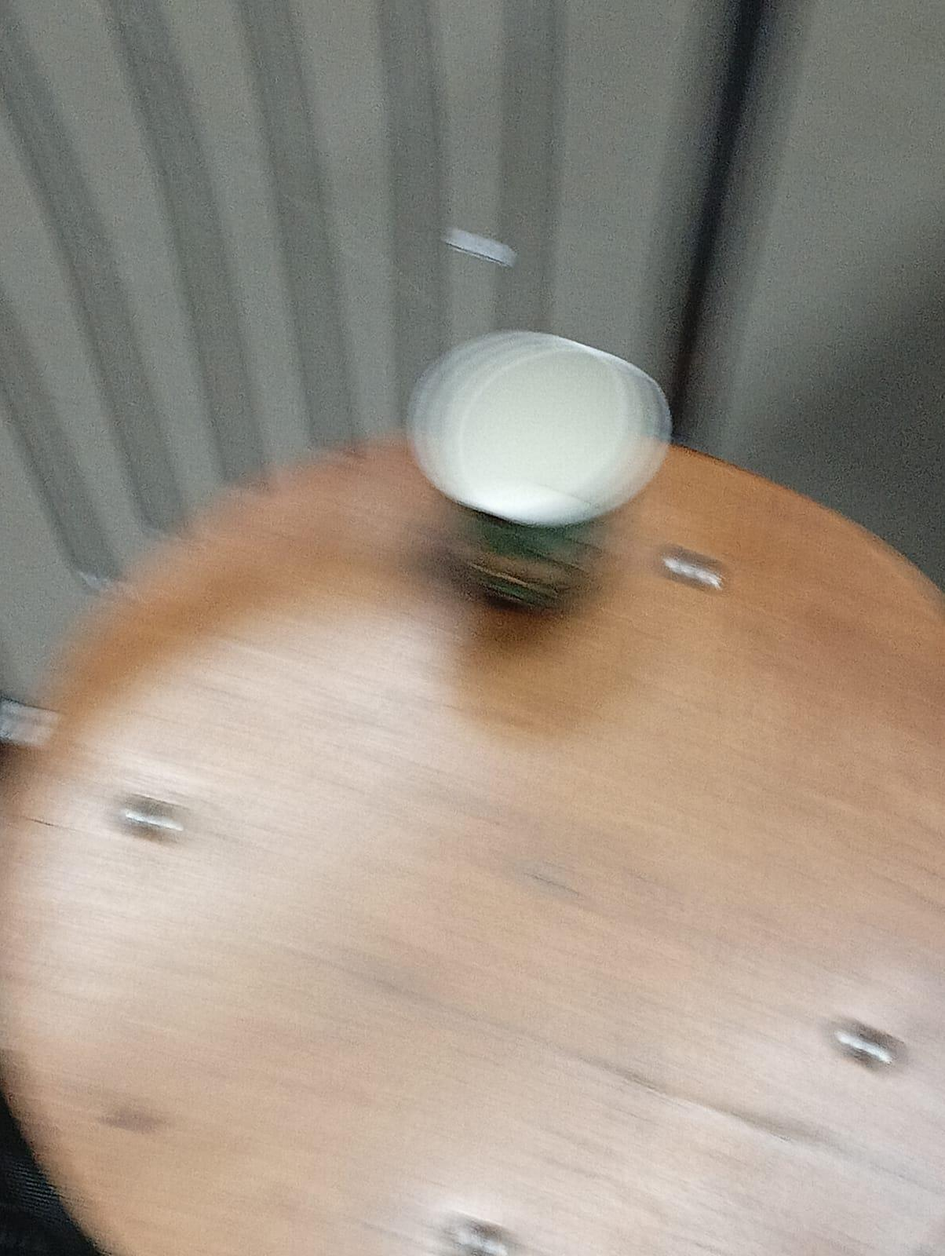cup: (408, 332, 670, 610)
